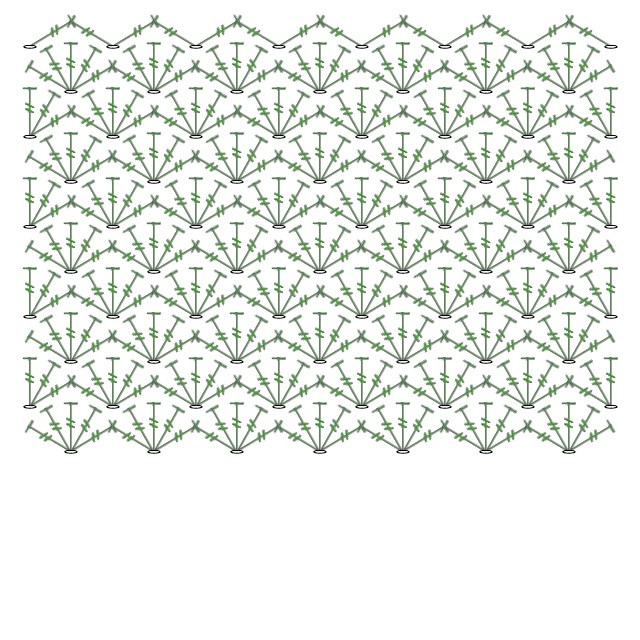chain: (22, 44, 38, 50), (105, 44, 121, 50), (188, 44, 204, 50), (271, 44, 287, 50), (354, 44, 370, 50), (437, 44, 453, 50), (520, 44, 536, 50), (603, 44, 619, 50), (63, 89, 79, 95), (146, 89, 162, 95), (229, 89, 245, 95), (312, 89, 328, 95), (395, 89, 411, 95), (478, 89, 494, 95), (561, 89, 577, 95), (22, 134, 38, 140), (105, 134, 121, 140), (188, 134, 204, 140), (271, 134, 287, 140), (354, 134, 370, 140), (437, 134, 453, 140), (520, 134, 536, 140), (603, 134, 619, 140), (63, 179, 79, 185), (146, 179, 162, 185), (229, 179, 245, 185), (312, 179, 328, 185), (395, 179, 411, 185), (478, 179, 494, 185), (561, 179, 577, 185), (22, 224, 38, 230), (105, 224, 121, 230), (188, 224, 204, 230), (271, 224, 287, 230), (354, 224, 370, 230), (437, 224, 453, 230), (520, 224, 536, 230), (603, 224, 619, 230), (63, 269, 79, 275), (146, 269, 162, 275), (229, 269, 245, 275), (312, 269, 328, 275), (395, 269, 411, 275), (478, 269, 494, 275), (561, 269, 577, 275), (22, 314, 38, 320), (105, 314, 121, 320), (188, 314, 204, 320), (271, 314, 287, 320), (354, 314, 370, 320), (437, 314, 453, 320), (520, 314, 536, 320), (603, 314, 619, 320), (63, 359, 79, 365), (146, 359, 162, 365), (229, 359, 245, 365), (312, 359, 328, 365), (395, 359, 411, 365), (478, 359, 494, 365), (561, 359, 577, 365), (22, 404, 38, 410), (105, 404, 121, 410), (188, 404, 204, 410), (271, 404, 287, 410), (354, 404, 370, 410), (437, 404, 453, 410), (520, 404, 536, 410), (603, 404, 619, 410), (63, 449, 79, 455), (146, 449, 162, 455), (229, 449, 245, 455), (312, 449, 328, 455), (395, 449, 411, 455), (478, 449, 494, 455), (561, 449, 577, 455)
fan: (26, 13, 78, 54), (65, 13, 117, 54), (109, 13, 161, 54), (148, 13, 200, 54), (192, 13, 244, 54), (231, 13, 283, 54), (275, 13, 327, 54), (314, 13, 366, 54), (358, 13, 410, 54), (397, 13, 449, 54), (441, 13, 493, 54), (480, 13, 532, 54), (524, 13, 576, 54), (563, 13, 615, 54), (23, 58, 75, 99), (67, 58, 119, 99), (106, 58, 158, 99), (150, 58, 202, 99), (189, 58, 241, 99), (233, 58, 285, 99), (272, 58, 324, 99), (316, 58, 368, 99), (355, 58, 407, 99), (399, 58, 451, 99), (438, 58, 490, 99), (482, 58, 534, 99), (521, 58, 573, 99), (565, 58, 617, 99), (26, 103, 78, 144), (65, 103, 117, 144), (109, 103, 161, 144), (148, 103, 200, 144), (192, 103, 244, 144), (231, 103, 283, 144), (275, 103, 327, 144), (314, 103, 366, 144), (358, 103, 410, 144), (397, 103, 449, 144), (441, 103, 493, 144), (480, 103, 532, 144), (524, 103, 576, 144), (563, 103, 615, 144), (23, 148, 75, 189), (67, 148, 119, 189), (106, 148, 158, 189), (150, 148, 202, 189), (189, 148, 241, 189), (233, 148, 285, 189), (272, 148, 324, 189), (316, 148, 368, 189), (355, 148, 407, 189), (399, 148, 451, 189), (438, 148, 490, 189), (482, 148, 534, 189), (521, 148, 573, 189), (565, 148, 617, 189), (26, 193, 78, 234), (65, 193, 117, 234), (109, 193, 161, 234), (148, 193, 200, 234), (192, 193, 244, 234), (231, 193, 283, 234), (275, 193, 327, 234), (314, 193, 366, 234), (358, 193, 410, 234), (397, 193, 449, 234), (441, 193, 493, 234), (480, 193, 532, 234), (524, 193, 576, 234), (563, 193, 615, 234), (23, 238, 75, 279), (67, 238, 119, 279), (106, 238, 158, 279), (150, 238, 202, 279), (189, 238, 241, 279), (233, 238, 285, 279), (272, 238, 324, 279), (316, 238, 368, 279), (355, 238, 407, 279), (399, 238, 451, 279), (438, 238, 490, 279), (482, 238, 534, 279), (521, 238, 573, 279), (565, 238, 617, 279), (26, 283, 78, 324), (65, 283, 117, 324), (109, 283, 161, 324), (148, 283, 200, 324), (192, 283, 244, 324), (231, 283, 283, 324), (275, 283, 327, 324), (314, 283, 366, 324), (358, 283, 410, 324), (397, 283, 449, 324), (441, 283, 493, 324), (480, 283, 532, 324), (524, 283, 576, 324), (563, 283, 615, 324), (23, 328, 75, 369), (67, 328, 119, 369), (106, 328, 158, 369), (150, 328, 202, 369), (189, 328, 241, 369), (233, 328, 285, 369), (272, 328, 324, 369), (316, 328, 368, 369), (355, 328, 407, 369), (399, 328, 451, 369), (438, 328, 490, 369), (482, 328, 534, 369), (521, 328, 573, 369), (565, 328, 617, 369), (26, 373, 78, 414), (65, 373, 117, 414), (109, 373, 161, 414), (148, 373, 200, 414), (192, 373, 244, 414), (231, 373, 283, 414), (275, 373, 327, 414), (314, 373, 366, 414), (358, 373, 410, 414), (397, 373, 449, 414), (441, 373, 493, 414), (480, 373, 532, 414), (524, 373, 576, 414), (563, 373, 615, 414), (23, 418, 75, 459), (67, 418, 119, 459), (106, 418, 158, 459), (150, 418, 202, 459), (189, 418, 241, 459), (233, 418, 285, 459), (272, 418, 324, 459), (316, 418, 368, 459), (355, 418, 407, 459), (399, 418, 451, 459), (438, 418, 490, 459), (482, 418, 534, 459), (521, 418, 573, 459), (565, 418, 617, 459), (38, 43, 78, 96), (64, 43, 104, 96), (121, 43, 161, 96), (147, 43, 187, 96), (204, 43, 244, 96), (230, 43, 270, 96), (287, 43, 327, 96), (313, 43, 353, 96), (370, 43, 410, 96), (396, 43, 436, 96), (453, 43, 493, 96), (479, 43, 519, 96), (536, 43, 576, 96), (562, 43, 602, 96), (23, 88, 63, 141), (80, 88, 120, 141), (106, 88, 146, 141), (163, 88, 203, 141), (189, 88, 229, 141), (246, 88, 286, 141), (272, 88, 312, 141), (329, 88, 369, 141), (355, 88, 395, 141), (412, 88, 452, 141), (438, 88, 478, 141), (495, 88, 535, 141), (521, 88, 561, 141), (578, 88, 618, 141), (38, 133, 78, 186), (64, 133, 104, 186), (121, 133, 161, 186), (147, 133, 187, 186), (204, 133, 244, 186), (230, 133, 270, 186), (287, 133, 327, 186), (313, 133, 353, 186), (370, 133, 410, 186), (396, 133, 436, 186), (453, 133, 493, 186), (479, 133, 519, 186), (536, 133, 576, 186), (562, 133, 602, 186), (23, 178, 63, 231), (80, 178, 120, 231), (106, 178, 146, 231), (163, 178, 203, 231), (189, 178, 229, 231), (246, 178, 286, 231), (272, 178, 312, 231), (329, 178, 369, 231), (355, 178, 395, 231), (412, 178, 452, 231), (438, 178, 478, 231), (495, 178, 535, 231), (521, 178, 561, 231), (578, 178, 618, 231), (38, 223, 78, 276), (64, 223, 104, 276), (121, 223, 161, 276), (147, 223, 187, 276), (204, 223, 244, 276), (230, 223, 270, 276), (287, 223, 327, 276), (313, 223, 353, 276), (370, 223, 410, 276), (396, 223, 436, 276), (453, 223, 493, 276), (479, 223, 519, 276), (536, 223, 576, 276), (562, 223, 602, 276), (23, 268, 63, 321), (80, 268, 120, 321), (106, 268, 146, 321), (163, 268, 203, 321), (189, 268, 229, 321), (246, 268, 286, 321), (272, 268, 312, 321), (329, 268, 369, 321), (355, 268, 395, 321), (412, 268, 452, 321), (438, 268, 478, 321), (495, 268, 535, 321), (521, 268, 561, 321), (578, 268, 618, 321), (38, 313, 78, 366), (64, 313, 104, 366), (121, 313, 161, 366), (147, 313, 187, 366), (204, 313, 244, 366), (230, 313, 270, 366), (287, 313, 327, 366), (313, 313, 353, 366), (370, 313, 410, 366), (396, 313, 436, 366), (453, 313, 493, 366), (479, 313, 519, 366), (536, 313, 576, 366), (562, 313, 602, 366), (23, 358, 63, 411), (80, 358, 120, 411), (106, 358, 146, 411), (163, 358, 203, 411), (189, 358, 229, 411), (246, 358, 286, 411), (272, 358, 312, 411), (329, 358, 369, 411), (355, 358, 395, 411), (412, 358, 452, 411), (438, 358, 478, 411), (495, 358, 535, 411), (521, 358, 561, 411), (578, 358, 618, 411), (38, 403, 78, 456), (64, 403, 104, 456), (121, 403, 161, 456), (147, 403, 187, 456), (204, 403, 244, 456), (230, 403, 270, 456), (287, 403, 327, 456), (313, 403, 353, 456), (370, 403, 410, 456), (396, 403, 436, 456), (453, 403, 493, 456), (479, 403, 519, 456), (536, 403, 576, 456), (562, 403, 602, 456), (62, 41, 80, 92), (228, 41, 246, 92), (394, 41, 412, 92), (560, 41, 578, 92), (104, 86, 122, 137), (270, 86, 288, 137), (436, 86, 454, 137), (602, 86, 620, 137), (62, 131, 80, 182), (228, 131, 246, 182), (394, 131, 412, 182), (560, 131, 578, 182), (104, 176, 122, 227), (270, 176, 288, 227), (436, 176, 454, 227), (602, 176, 620, 227), (62, 221, 80, 272), (228, 221, 246, 272), (394, 221, 412, 272), (560, 221, 578, 272), (104, 266, 122, 317), (270, 266, 288, 317), (436, 266, 454, 317), (602, 266, 620, 317), (62, 311, 80, 362), (228, 311, 246, 362), (394, 311, 412, 362), (560, 311, 578, 362), (104, 356, 122, 407), (270, 356, 288, 407), (436, 356, 454, 407), (602, 356, 620, 407), (62, 401, 80, 452), (228, 401, 246, 452), (394, 401, 412, 452), (560, 401, 578, 452), (146, 41, 162, 92), (312, 41, 328, 92), (478, 41, 494, 92), (22, 86, 38, 137), (188, 86, 204, 137), (354, 86, 370, 137), (520, 86, 536, 137), (146, 131, 162, 182), (312, 131, 328, 182), (478, 131, 494, 182), (22, 176, 38, 227), (188, 176, 204, 227), (354, 176, 370, 227), (520, 176, 536, 227), (146, 221, 162, 272), (312, 221, 328, 272), (478, 221, 494, 272), (22, 266, 38, 317), (188, 266, 204, 317), (354, 266, 370, 317), (520, 266, 536, 317), (146, 311, 162, 362), (312, 311, 328, 362), (478, 311, 494, 362), (22, 356, 38, 407), (188, 356, 204, 407), (354, 356, 370, 407), (520, 356, 536, 407), (146, 401, 162, 452), (312, 401, 328, 452), (478, 401, 494, 452)
